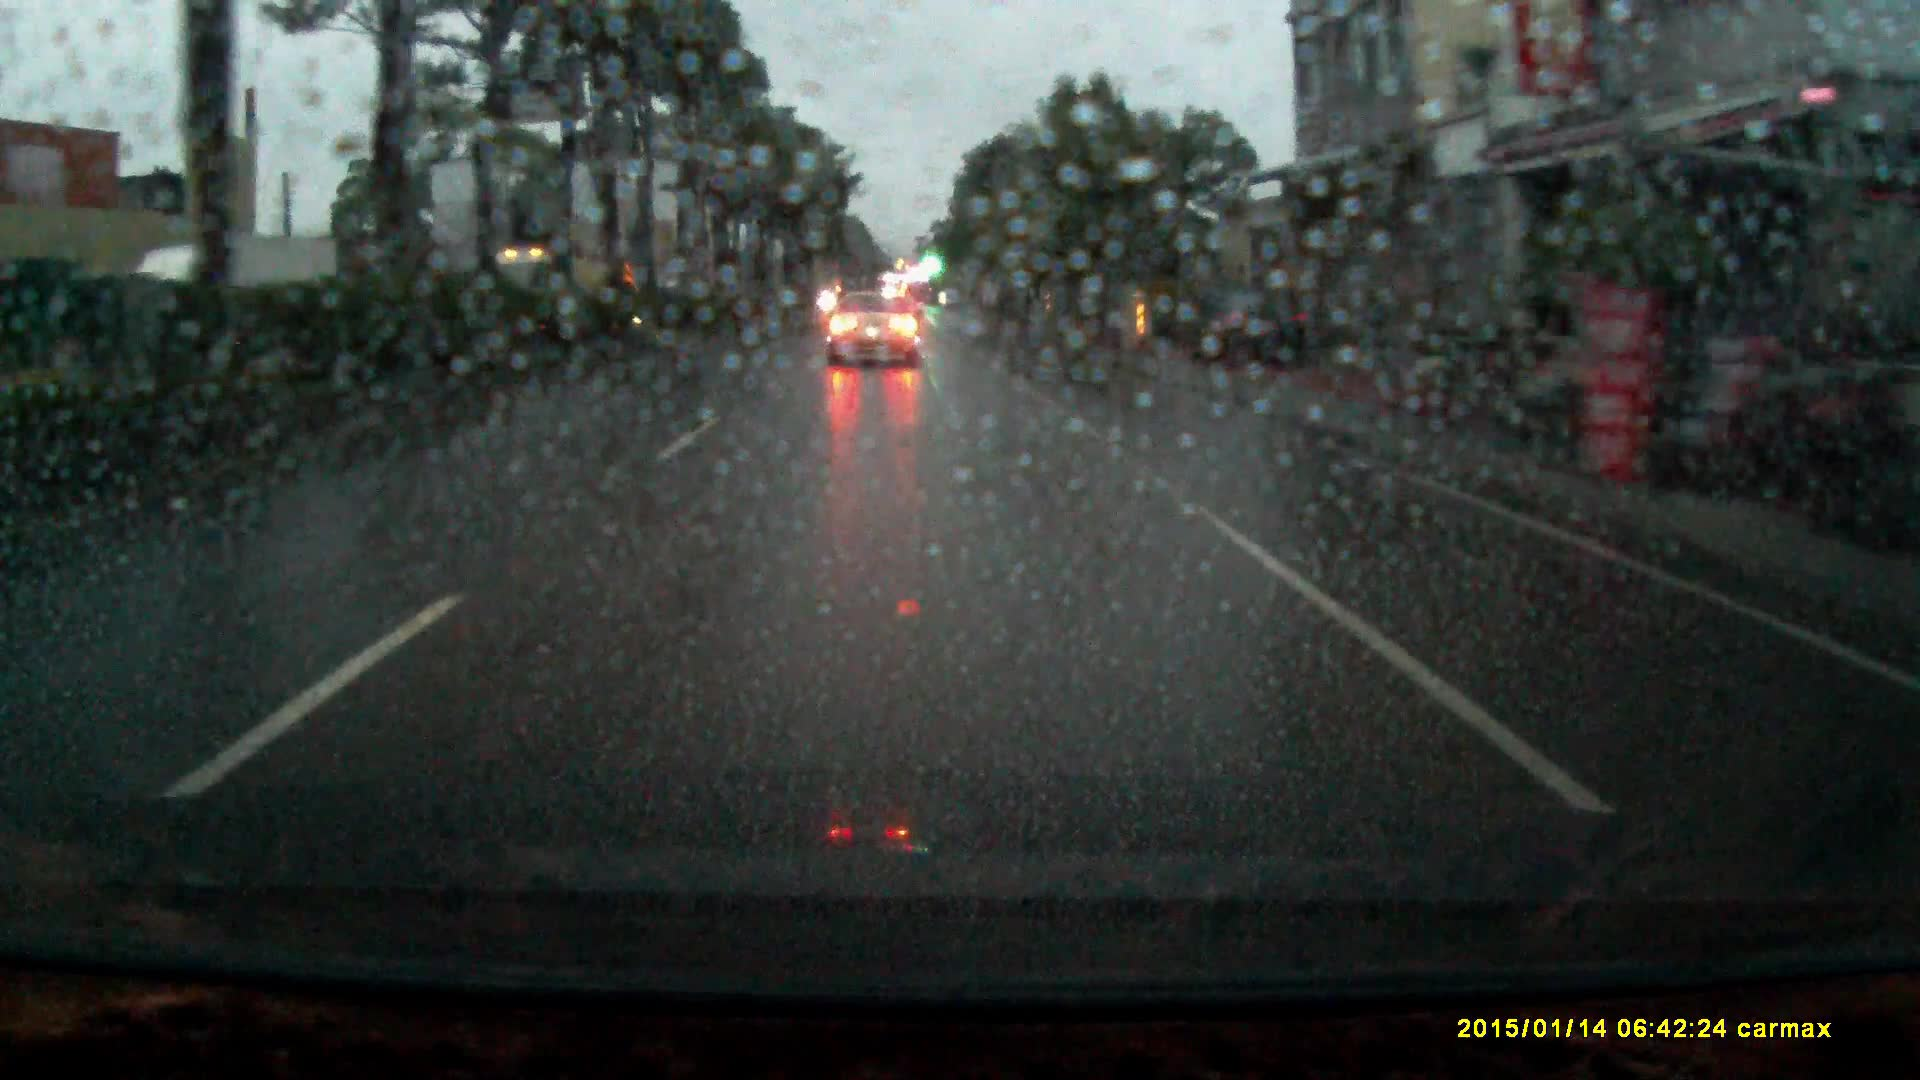vehicle: (131, 235, 340, 378), (476, 251, 613, 319), (1192, 302, 1309, 378), (825, 302, 924, 380)
